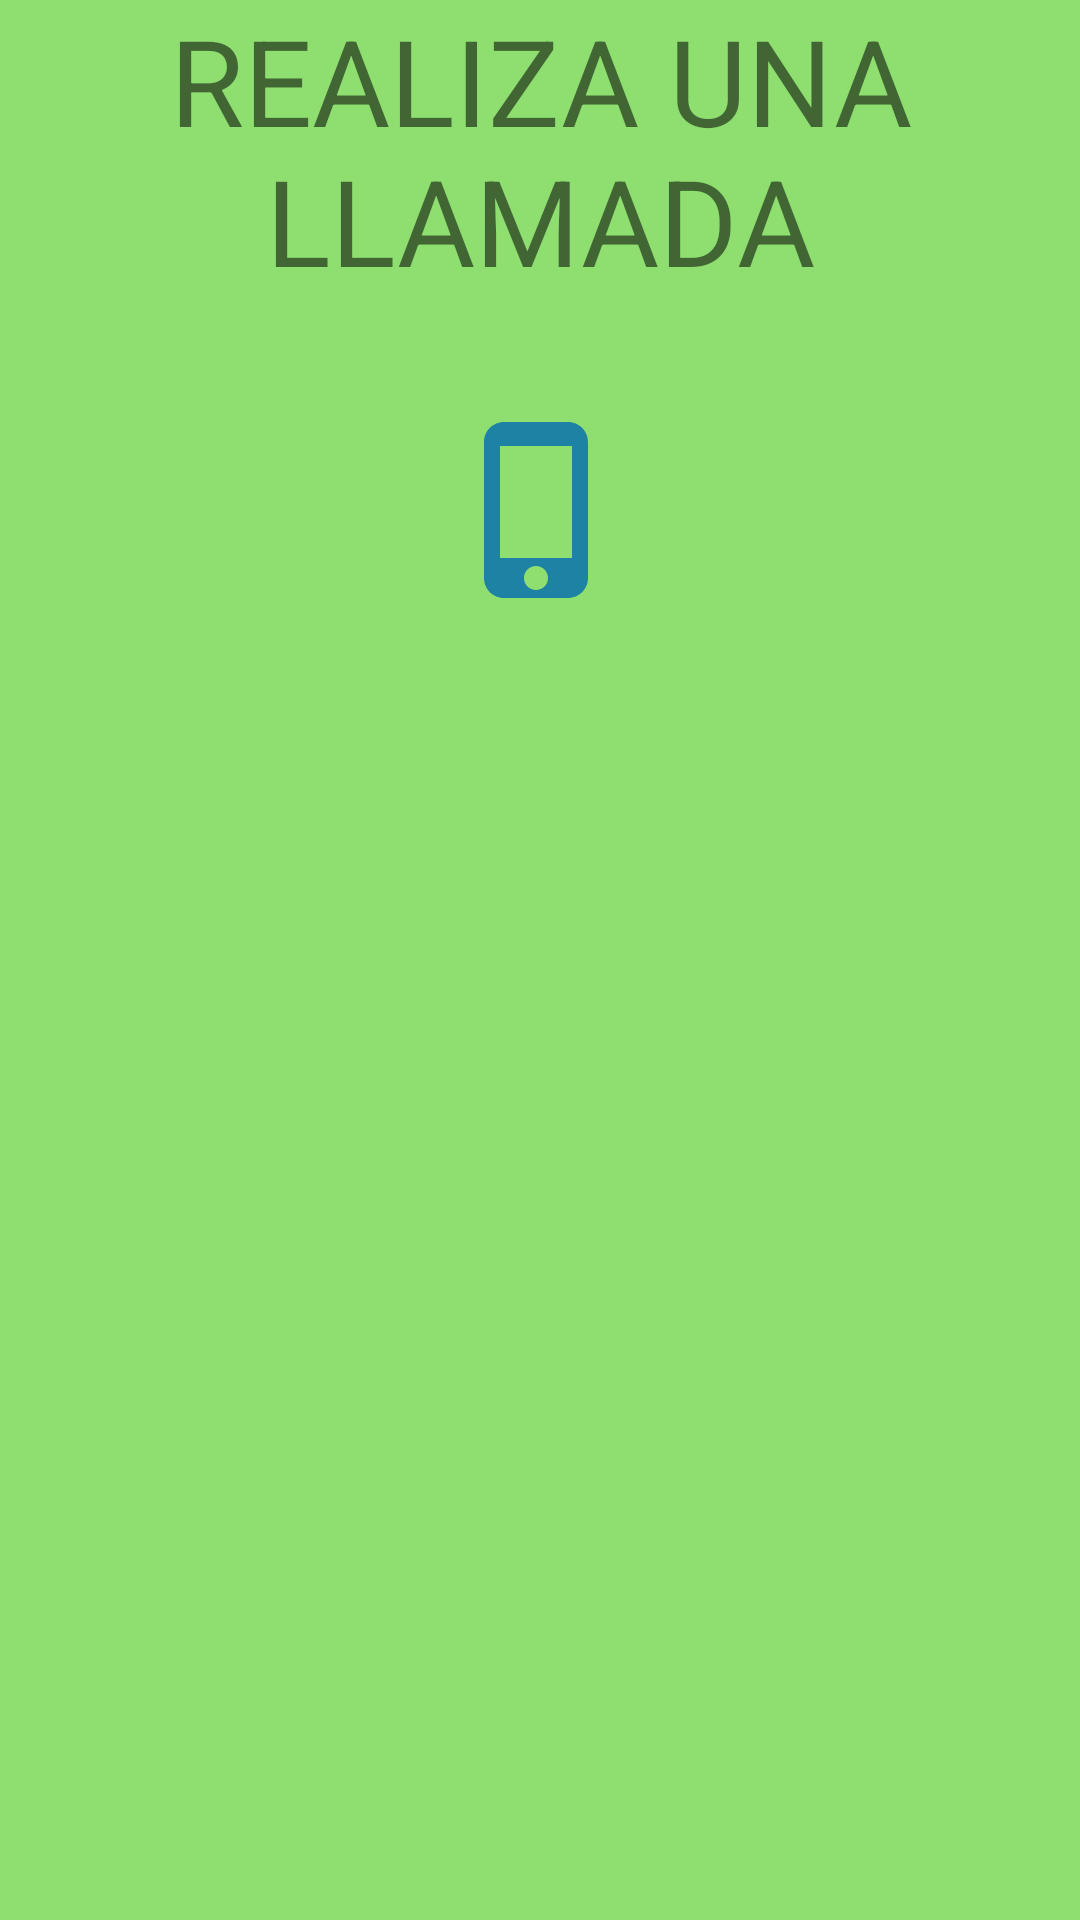

Named icons in this screenshot (1080*1920) and their centers, point (x, y):
boton para realizar la llamada: point (536, 510)
